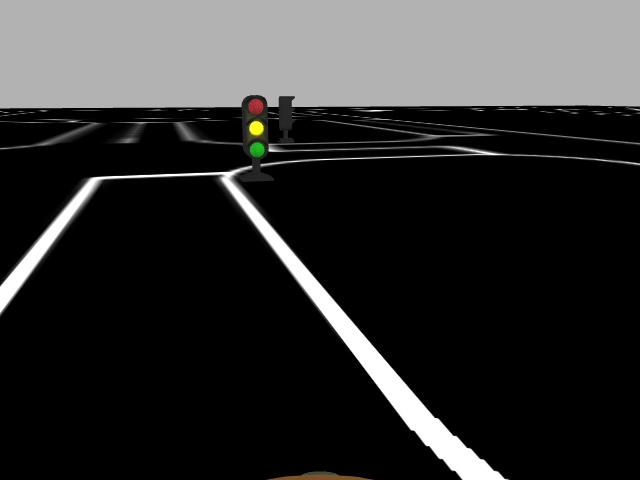yellow_light: (242, 95, 270, 160)
